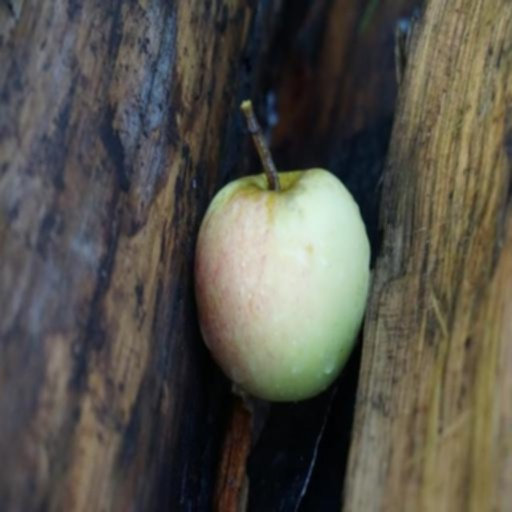fruit: (227, 190, 426, 512)
